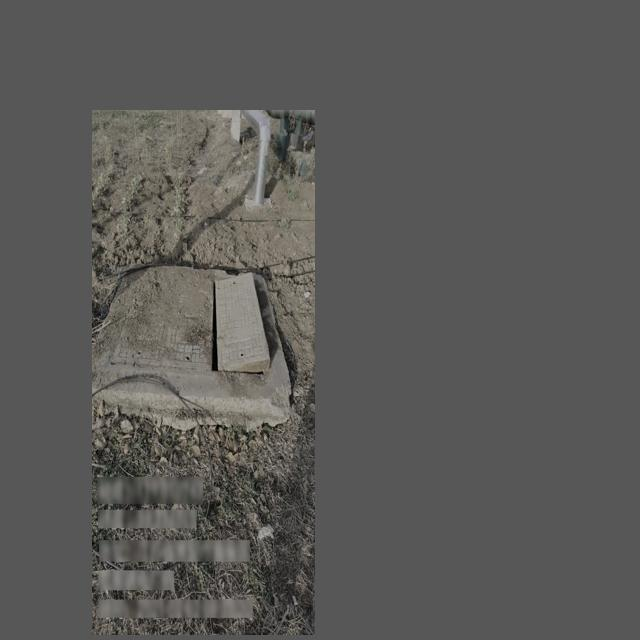uncovered: (110, 267, 270, 378)
